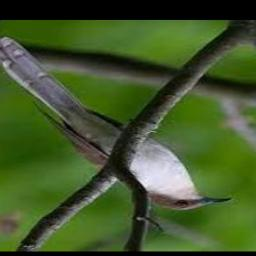Cuckoo: (0, 35, 233, 211)
